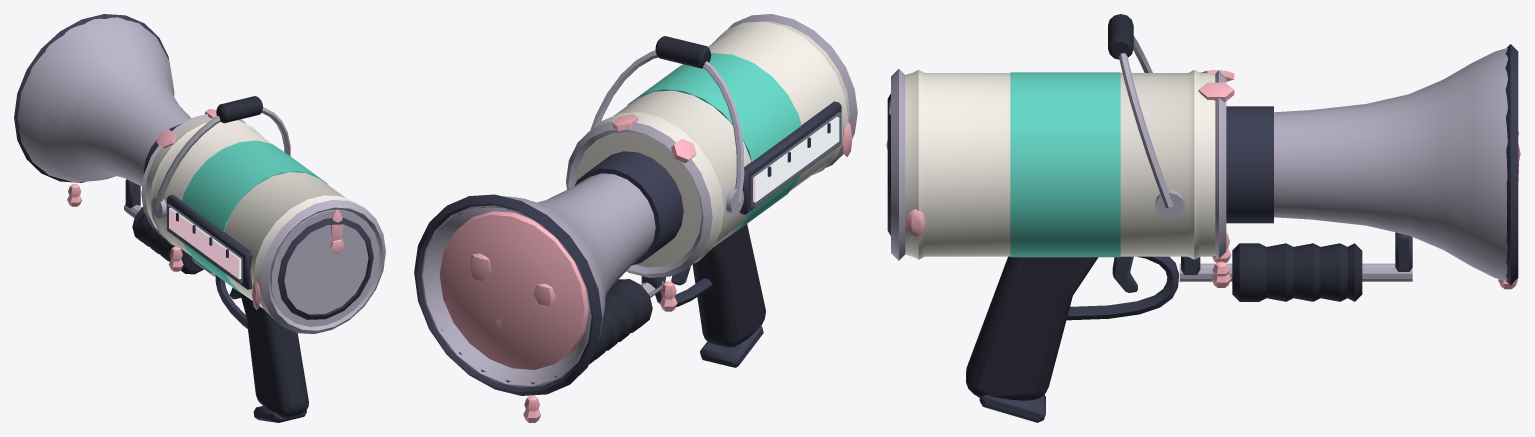
The model's file is weapon_splat_bucket.glb.
3 renders of one model, left to right at view 1: azimuth 30°, elevation 25°; view 2: azimuth 150°, elevation 25°; view 3: azimuth 270°, elevation 25°, orthographic. The views are drawn at different scales.
Parts seen in each view (by area): view 1: Bell, Can, Lid, SkinBand, Grip, BackRim, WindowGlass, WindowFrame, LidGroove, PaintDrips, Fill, Pump (+7 smaller); view 2: Can, Muzzle, Bell, SkinBand, Grip, BellRim, NeckCollar, FrontRim, WindowGlass, Pump, WindowFrame, Fill (+6 smaller); view 3: Can, Bell, SkinBand, Grip, Pump, NeckCollar, BellRim, BackRim, TriggerGuard, FrontRim, PaintDrips, Bail (+5 smaller).
Part boxes in pixels (x1=…): Bell: x1=17, y1=17, x2=191, y2=186; Can: x1=145, y1=117, x2=358, y2=320; Lid: x1=270, y1=209, x2=379, y2=326; SkinBand: x1=182, y1=140, x2=327, y2=295; Grip: x1=240, y1=292, x2=308, y2=417; BackRim: x1=260, y1=200, x2=385, y2=333; WindowGlass: x1=166, y1=204, x2=242, y2=283; WindowFrame: x1=167, y1=195, x2=252, y2=289; LidGroove: x1=277, y1=218, x2=373, y2=319; PaintDrips: x1=67, y1=109, x2=344, y2=309; Fill: x1=169, y1=207, x2=241, y2=279; Pump: x1=132, y1=207, x2=203, y2=274; Can: x1=575, y1=21, x2=849, y2=267; Muzzle: x1=439, y1=211, x2=588, y2=369; Bell: x1=421, y1=173, x2=655, y2=387; SkinBand: x1=627, y1=53, x2=801, y2=238; Grip: x1=692, y1=224, x2=765, y2=347; BellRim: x1=414, y1=194, x2=602, y2=395; NeckCollar: x1=574, y1=151, x2=683, y2=265; FrontRim: x1=566, y1=121, x2=712, y2=277; WindowGlass: x1=751, y1=112, x2=842, y2=206; Pump: x1=589, y1=279, x2=652, y2=364; WindowFrame: x1=739, y1=101, x2=841, y2=214; Fill: x1=753, y1=117, x2=839, y2=202; Can: x1=905, y1=70, x2=1215, y2=259; Bell: x1=1274, y1=48, x2=1507, y2=281; SkinBand: x1=1010, y1=72, x2=1120, y2=257; Grip: x1=966, y1=256, x2=1098, y2=400; Pump: x1=1232, y1=243, x2=1362, y2=301; NeckCollar: x1=1226, y1=106, x2=1273, y2=223; BellRim: x1=1505, y1=44, x2=1518, y2=285; BackRim: x1=891, y1=69, x2=905, y2=260; TriggerGuard: x1=1066, y1=256, x2=1178, y2=320; FrontRim: x1=1215, y1=70, x2=1226, y2=258; PaintDrips: x1=886, y1=70, x2=1517, y2=289; Bail: x1=1119, y1=36, x2=1173, y2=207.
Bounding box in the file's own units: 0.1974 × 0.3504 × 0.5175.
